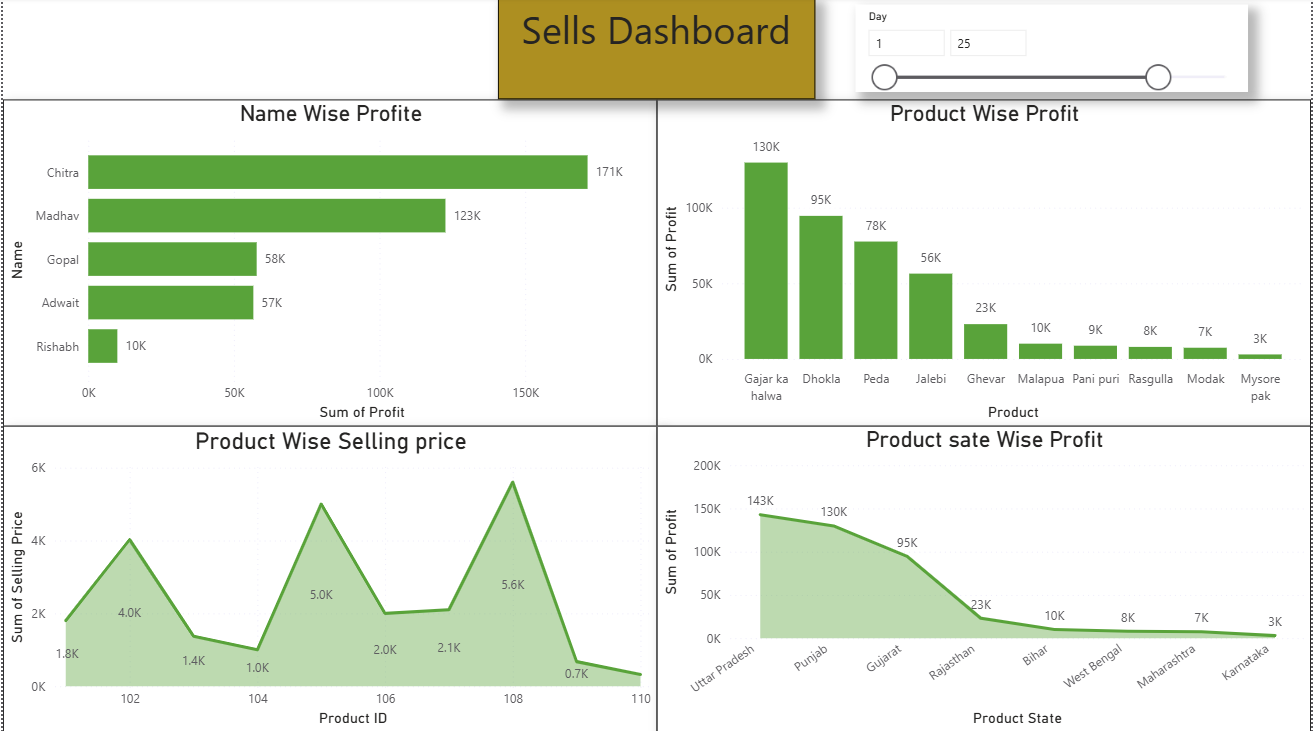

The page's visual inventory and layout, read from the dashboard file:
{"tool":"powerbi","page":{"name":"Page 1","canvas":[1280,720],"ordinal":0},"visuals":[{"type":"clusteredBarChart","title":"Name Wise Profite","fields":{"Category":["Customers.Name"],"Y":["Sum(Orders.Profit)"]},"box":[0,100,640,320],"z":0},{"type":"lineClusteredColumnComboChart","title":"Product Wise Profit","fields":{"Category":["Orders.Product"],"Y":["Sum(Orders.Profit)"]},"box":[640,100,640,320],"z":1000},{"type":"stackedAreaChart","title":"Product Wise Selling price","fields":{"Category":["Orders.Product ID"],"Y":["Sum(Orders.Selling Price)"]},"box":[0,420,640,300],"z":2000},{"type":"areaChart","title":"Product sate Wise Profit","fields":{"Category":["Orders.Product State"],"Y":["Sum(Orders.Profit)"]},"box":[640,420,640,300],"z":3000},{"type":"textbox","box":[484.3,0,310,100],"z":4000},{"type":"slicer","fields":{"Values":["Customers.Order Date.Variation.Date Hierarchy.Day"]},"box":[834.3,7.1,384.3,85.7],"z":5000}]}

Visuals, with their boxes in screenshot pixels (x1, y1, x2, y2), scaled from the page's 1280x720 canvas onto the 1313x731 screenshot:
"Name Wise Profite" clusteredBarChart: pyautogui.locateOnScreen(0, 102, 656, 426)
"Product Wise Profit" lineClusteredColumnComboChart: pyautogui.locateOnScreen(656, 102, 1312, 426)
"Product Wise Selling price" stackedAreaChart: pyautogui.locateOnScreen(0, 426, 656, 730)
"Product sate Wise Profit" areaChart: pyautogui.locateOnScreen(656, 426, 1312, 730)
textbox: pyautogui.locateOnScreen(497, 0, 815, 102)
slicer - Customers.Order Date.Variation.Date Hierarchy.Day: pyautogui.locateOnScreen(856, 7, 1250, 94)
